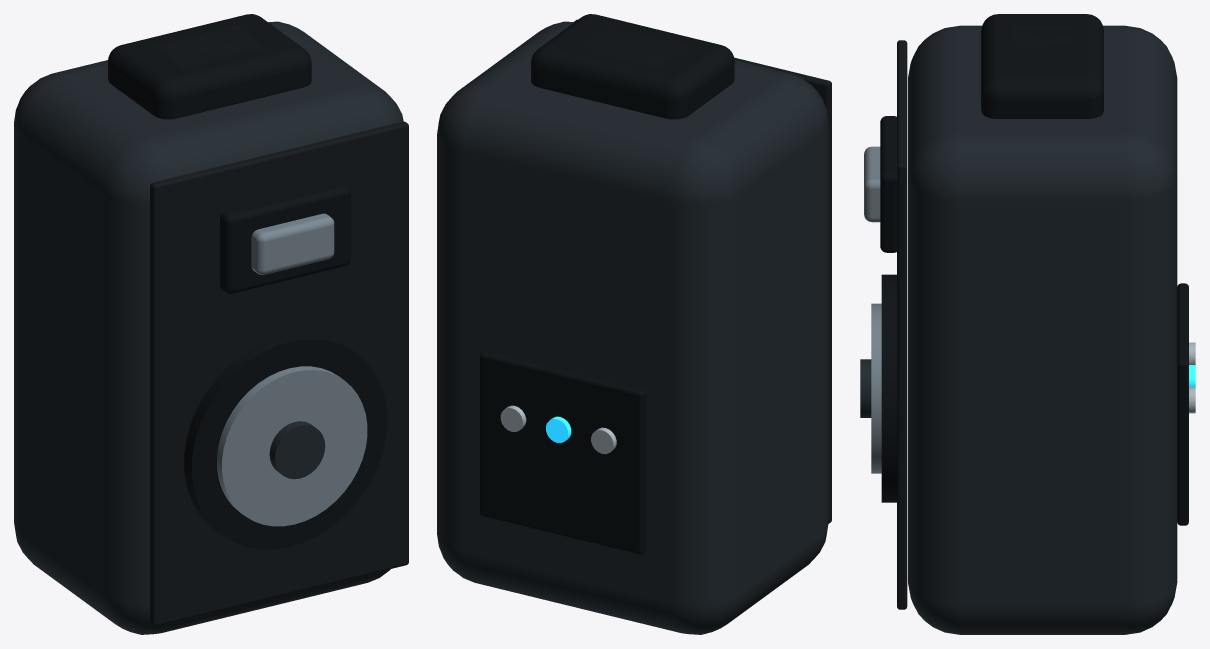
Rendered from pa-speaker.glb.
3 renders of one model, left to right at view 1: azimuth 30°, elevation 25°; view 2: azimuth 150°, elevation 25°; view 3: azimuth 270°, elevation 25°, orthographic.
Visible parts, largest first — view 1: PA speaker cabinet, Acoustic grille, Woofer cone, Woofer surround, Carry handle, High-frequency horn, Premium active PA loudspeaker, Dust cap; view 2: PA speaker cabinet, Amplifier panel, Carry handle, Acoustic grille, Premium active PA loudspeaker; view 3: PA speaker cabinet, Carry handle, Acoustic grille, Woofer surround, Amplifier panel, High-frequency horn, Woofer cone, Premium active PA loudspeaker, Dust cap.
Boxes of the visible parts, left/top/right/bottom form: PA speaker cabinet: left=14, top=21, right=403, bottom=634; Acoustic grille: left=150, top=121, right=408, bottom=626; Woofer cone: left=217, top=366, right=367, bottom=526; Woofer surround: left=184, top=334, right=387, bottom=549; Carry handle: left=108, top=14, right=311, bottom=119; High-frequency horn: left=220, top=183, right=350, bottom=293; Premium active PA loudspeaker: left=154, top=26, right=334, bottom=274; Dust cap: left=269, top=421, right=325, bottom=479; PA speaker cabinet: left=437, top=21, right=828, bottom=634; Amplifier panel: left=480, top=351, right=646, bottom=554; Carry handle: left=531, top=14, right=734, bottom=119; Acoustic grille: left=574, top=19, right=831, bottom=523; Premium active PA loudspeaker: left=577, top=28, right=688, bottom=67; PA speaker cabinet: left=908, top=25, right=1177, bottom=634; Carry handle: left=981, top=14, right=1103, bottom=118; Acoustic grille: left=897, top=40, right=907, bottom=609; Woofer surround: left=881, top=274, right=896, bottom=502; Amplifier panel: left=1177, top=283, right=1188, bottom=525; High-frequency horn: left=880, top=116, right=896, bottom=252; Woofer cone: left=871, top=303, right=881, bottom=473; Premium active PA loudspeaker: left=864, top=26, right=1073, bottom=222; Dust cap: left=860, top=359, right=871, bottom=417.
Bounding box in the file's own units: 1.18 × 2.07 × 1.15.
